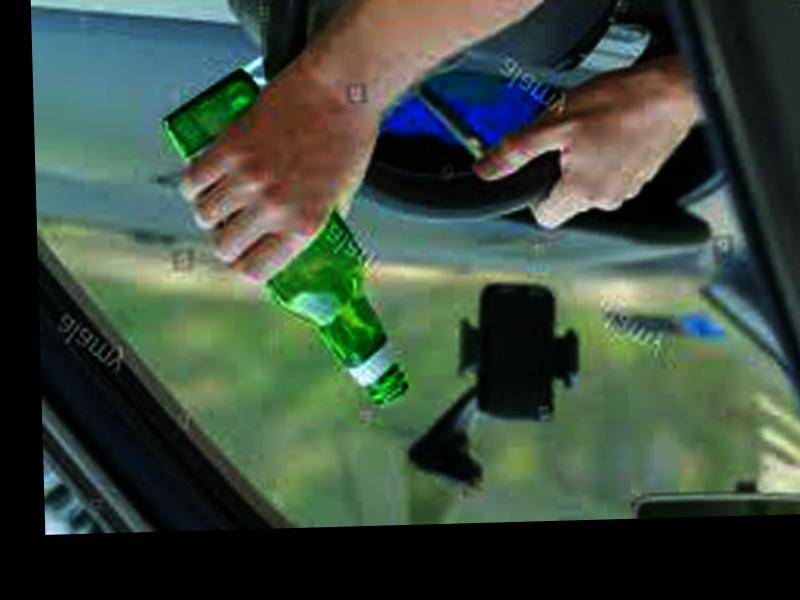Beer: (170, 61, 405, 406)
